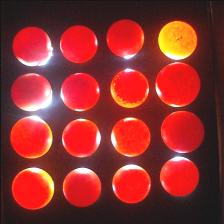fertile: (154, 61, 200, 106), (159, 110, 204, 153), (159, 156, 198, 196), (62, 166, 101, 206), (105, 17, 144, 57), (60, 72, 100, 111), (9, 72, 50, 110), (12, 26, 50, 66)
infertile: (11, 166, 55, 210), (9, 115, 53, 158), (110, 163, 150, 203), (60, 117, 100, 157), (110, 116, 150, 156), (156, 20, 196, 59), (110, 67, 148, 107), (59, 24, 96, 63)
